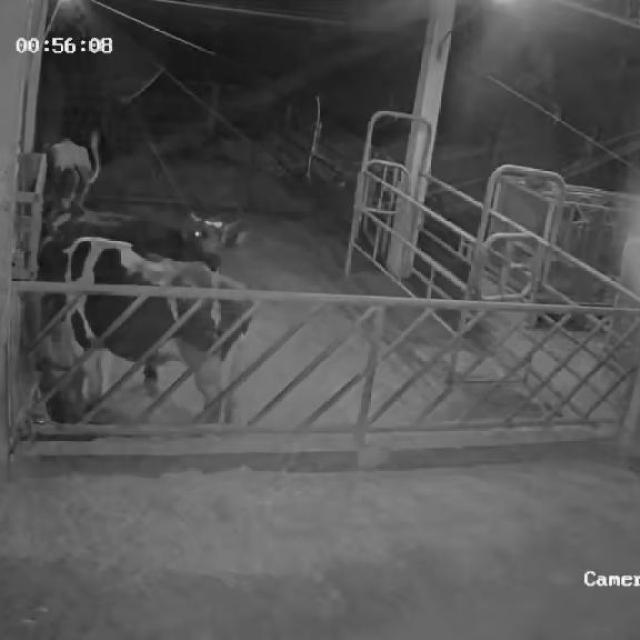standing: (44, 130, 96, 243)
